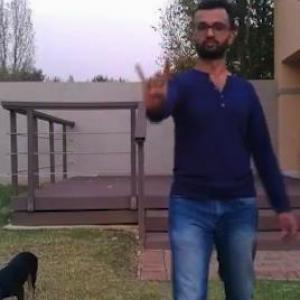takeoff-hand: (124, 47, 177, 122)
